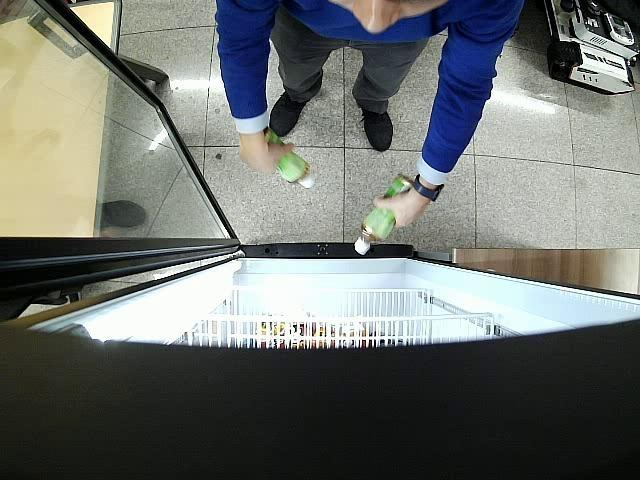19_17cha: (354, 174, 416, 255), (262, 128, 314, 190)
